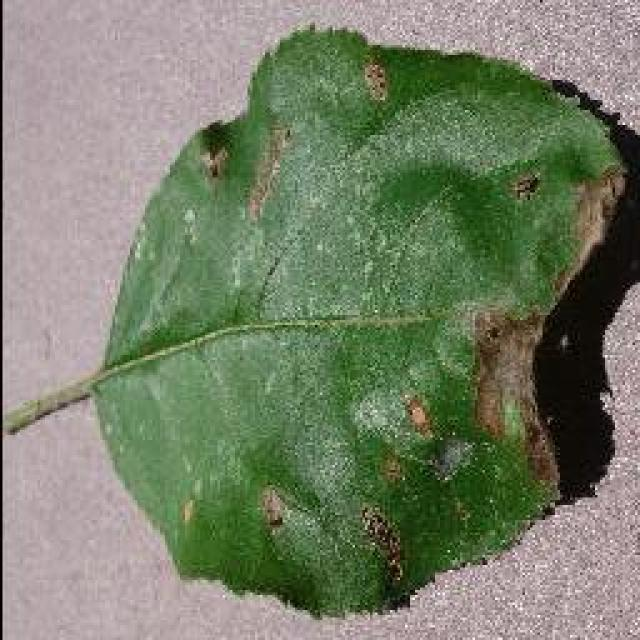Black_rot: (5, 20, 637, 620)
